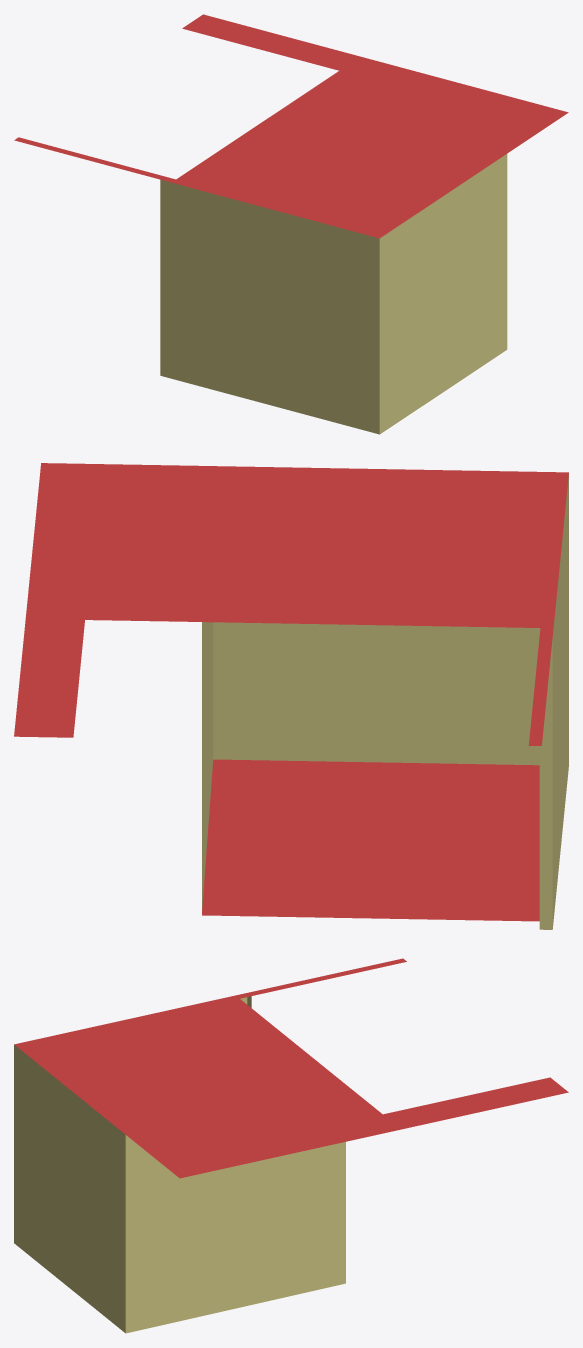
The picture shows the model from 3 angles, top to bottom: view 1: azimuth 30°, elevation 25°; view 2: azimuth 150°, elevation 25°; view 3: azimuth 270°, elevation 25°; orthographic projection. The views are drawn at different scales.
Size of the model in its own units: 13.29 by 14.17 by 5.6.
